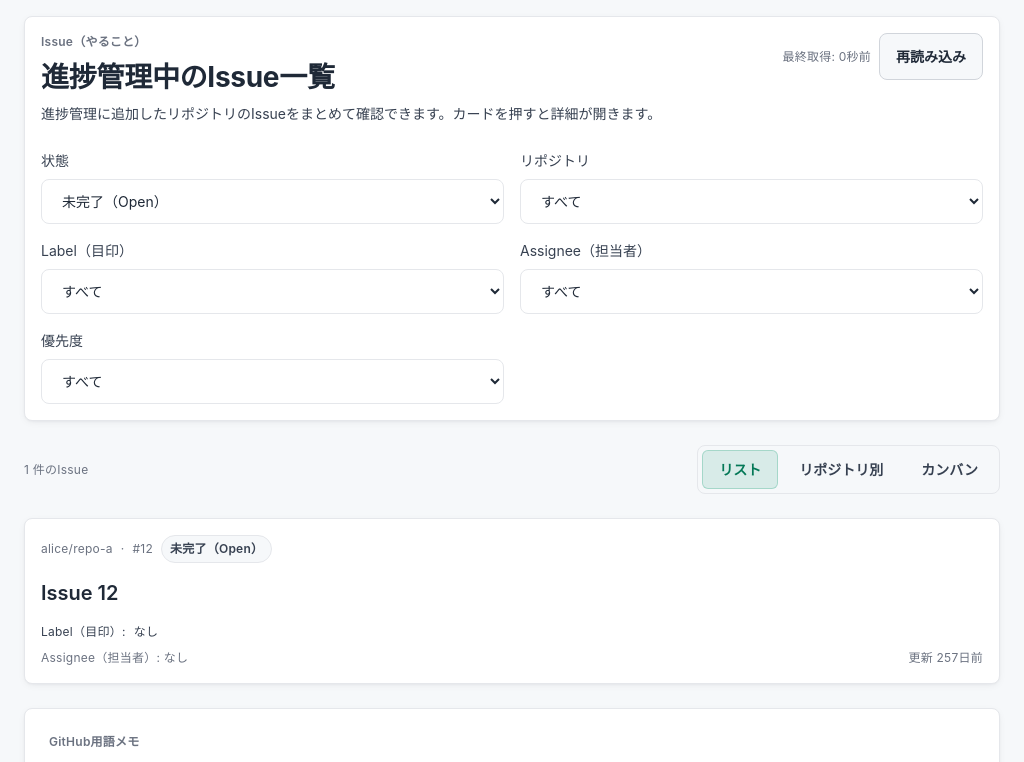
it: IssuesHome › releases the issue action lock after a failed comment
This screenshot has width=1024, height=762.
Click the button with aria-label "alice/repo-a #12: Issue 12 の詳細を開く" at (512, 601), box [24,518,1000,684]
(page scrolled)
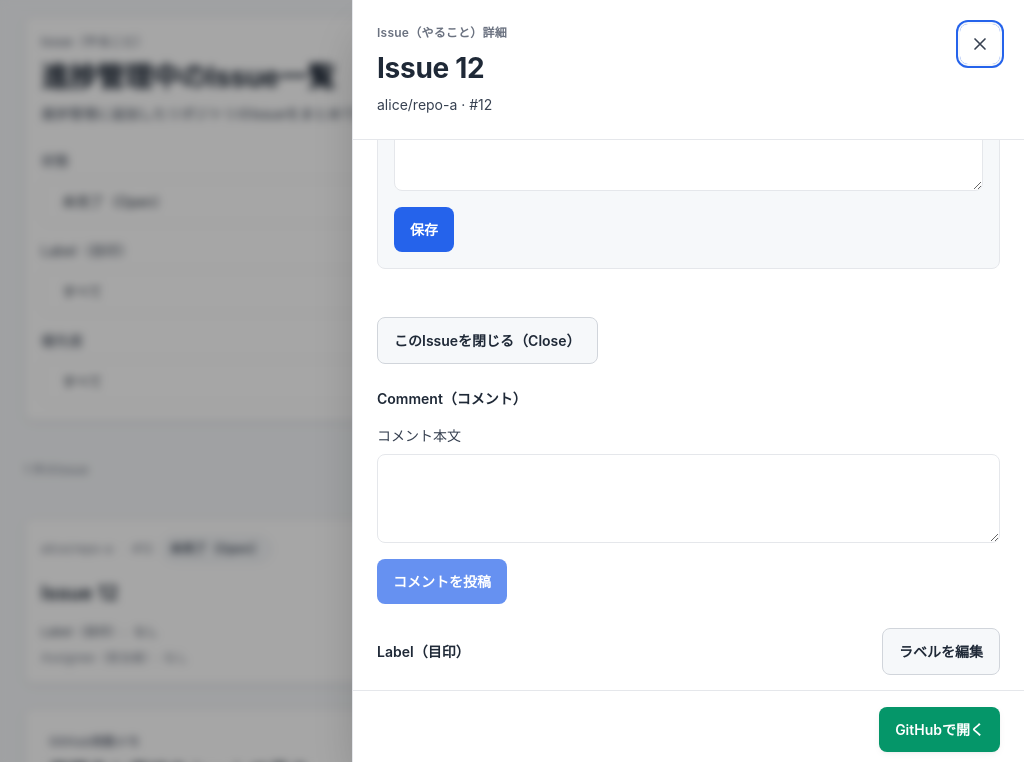
Type "Retry" into the text box labelled "コメント本文" at (688, 498), box [377,454,1000,543]
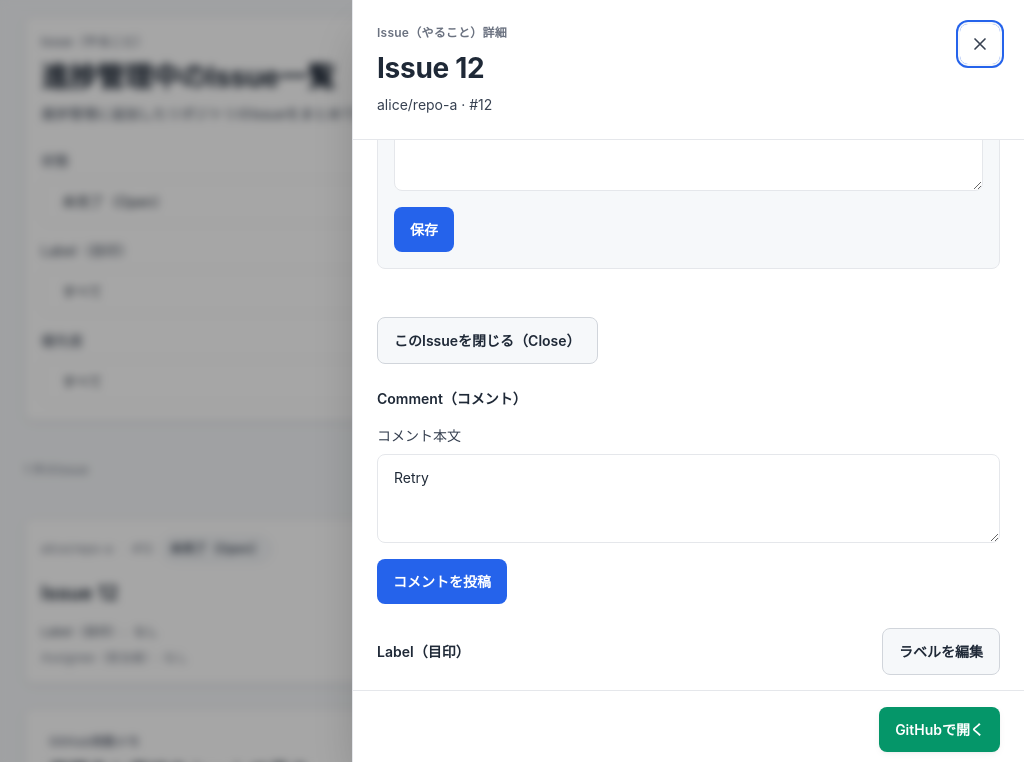
Click the button "コメントを投稿" at (442, 581), box [377,559,507,604]
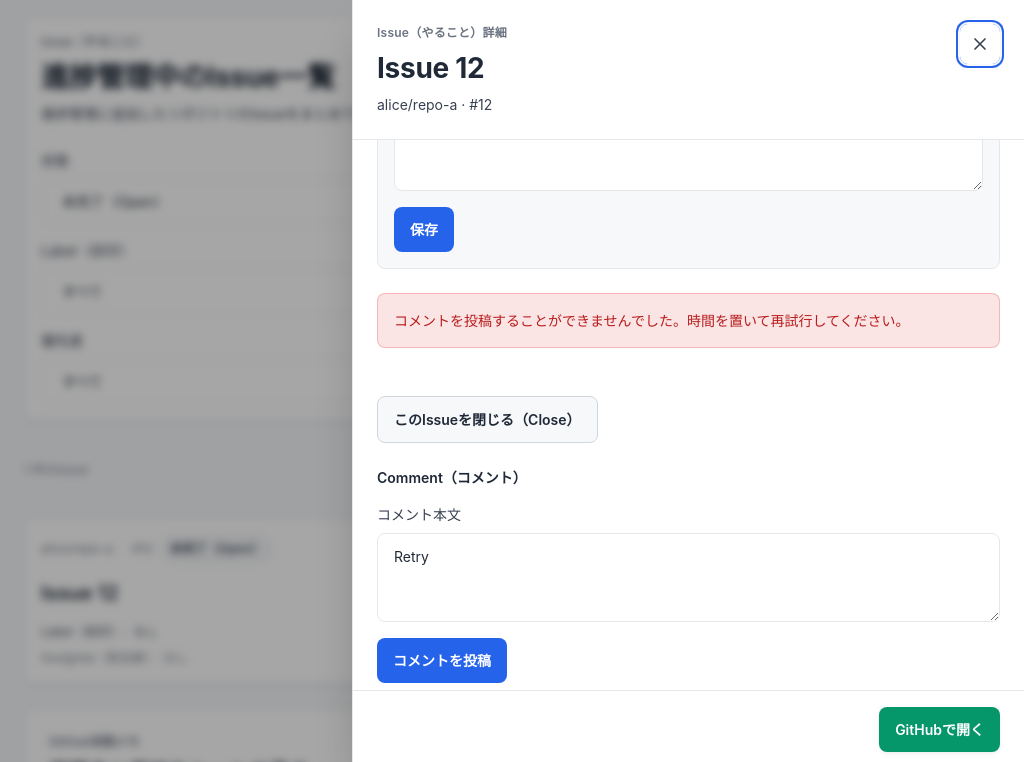
Expected: the button "コメントを投稿" is enabled
Expected: the message shows "コメントを投稿することができませんでした", [394,312,910,329]
Click the button "コメントを投稿" at (442, 660), box [377,638,507,683]
(page scrolled)
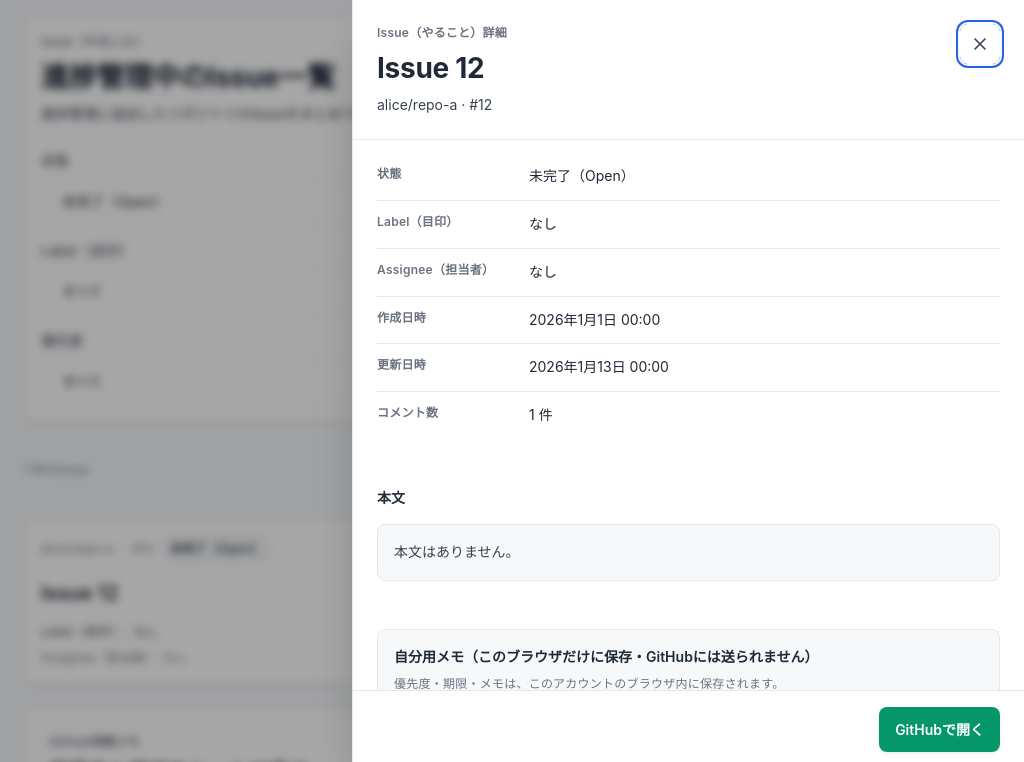
Expected: the text "1 件" is shown, [529,406,553,423]
